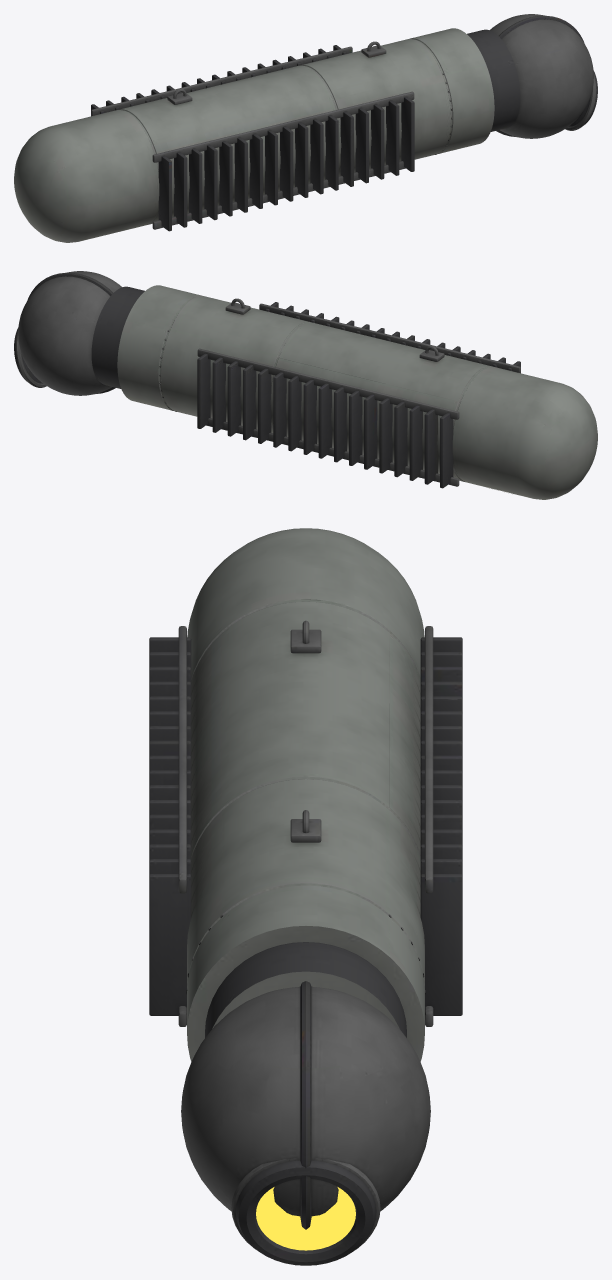
File: exp_laser.glb
3 renders of one model, top to bottom at view 1: azimuth 30°, elevation 25°; view 2: azimuth 150°, elevation 25°; view 3: azimuth 270°, elevation 25°, orthographic. The views are drawn at different scales.
Parts seen in each view (by area): view 1: exp_laser; view 2: exp_laser; view 3: exp_laser.
Part boxes in pixels (x1,y1,x2,y2): exp_laser: (14, 14, 597, 242); exp_laser: (14, 271, 597, 499); exp_laser: (149, 528, 462, 1265).
Bounding box in the file's own units: 0.9315 × 0.2098 × 0.224.
Materials: 5 (4 with a texture image).
